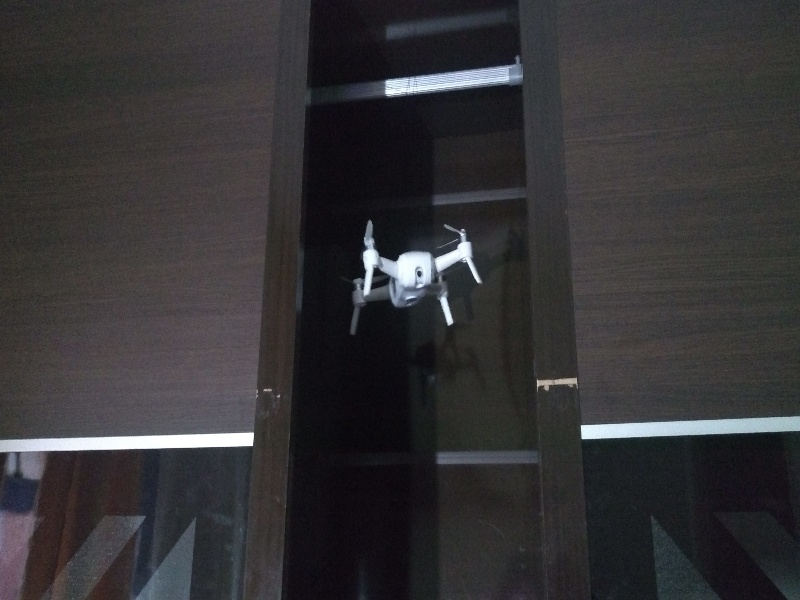drone: (337, 214, 491, 334)
